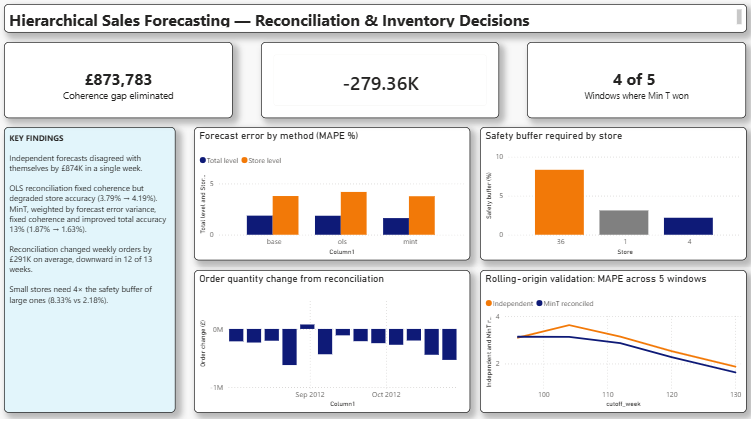

This screenshot's page, from the dashboard's own definition file:
{"tool":"powerbi","page":{"name":"Page 1","canvas":[1280,720],"ordinal":0},"visuals":[{"type":"clusteredColumnChart","title":"Forecast error by method (MAPE %)","fields":{"Y":["Sum(final_comparison.total)","Sum(final_comparison.store)"],"Category":["final_comparison.Column1"]},"box":[336,224,464,224],"z":0},{"type":"lineChart","title":"Rolling-origin validation: MAPE across 5 windows","fields":{"Category":["rolling_origin_cv.cutoff_week"],"Y":["Sum(rolling_origin_cv.base)","Sum(rolling_origin_cv.mint)"]},"box":[816,464,448,240],"z":1000},{"type":"clusteredColumnChart","title":"Order quantity change from reconciliation","fields":{"Category":["order_comparison.Column1"],"Y":["Sum(order_comparison.order_diff)"]},"box":[336,464,464,240],"z":2000},{"type":"clusteredColumnChart","title":"Safety buffer required by store","fields":{"Category":["store_orders.store"],"Y":["Sum(store_orders.buffer_pct)"]},"box":[816,224,448,224],"z":3000},{"type":"textbox","box":[16,224,288,480],"z":4000},{"type":"textbox","box":[16,16,1248,48],"z":5000},{"type":"cardVisual","title":"Avg weekly order change (signed)","fields":{"Data":["Avg(order_comparison.order_diff)"]},"box":[448,80,400,128],"z":6000},{"type":"textbox","box":[16,80,384,128],"z":7000},{"type":"textbox","box":[896,80,368,128],"z":8000}]}

Visuals, with their boxes in screenshot pixels (x1, y1, x2, y2), scaled from the page's 1280x720 canvas onto the 753x431 screenshot:
"Forecast error by method (MAPE %)" clusteredColumnChart: x1=198, y1=134, x2=471, y2=268
"Rolling-origin validation: MAPE across 5 windows" lineChart: x1=480, y1=278, x2=744, y2=421
"Order quantity change from reconciliation" clusteredColumnChart: x1=198, y1=278, x2=471, y2=421
"Safety buffer required by store" clusteredColumnChart: x1=480, y1=134, x2=744, y2=268
textbox: x1=9, y1=134, x2=179, y2=421
textbox: x1=9, y1=10, x2=744, y2=38
"Avg weekly order change (signed)" cardVisual: x1=264, y1=48, x2=499, y2=125
textbox: x1=9, y1=48, x2=235, y2=125
textbox: x1=527, y1=48, x2=744, y2=125
